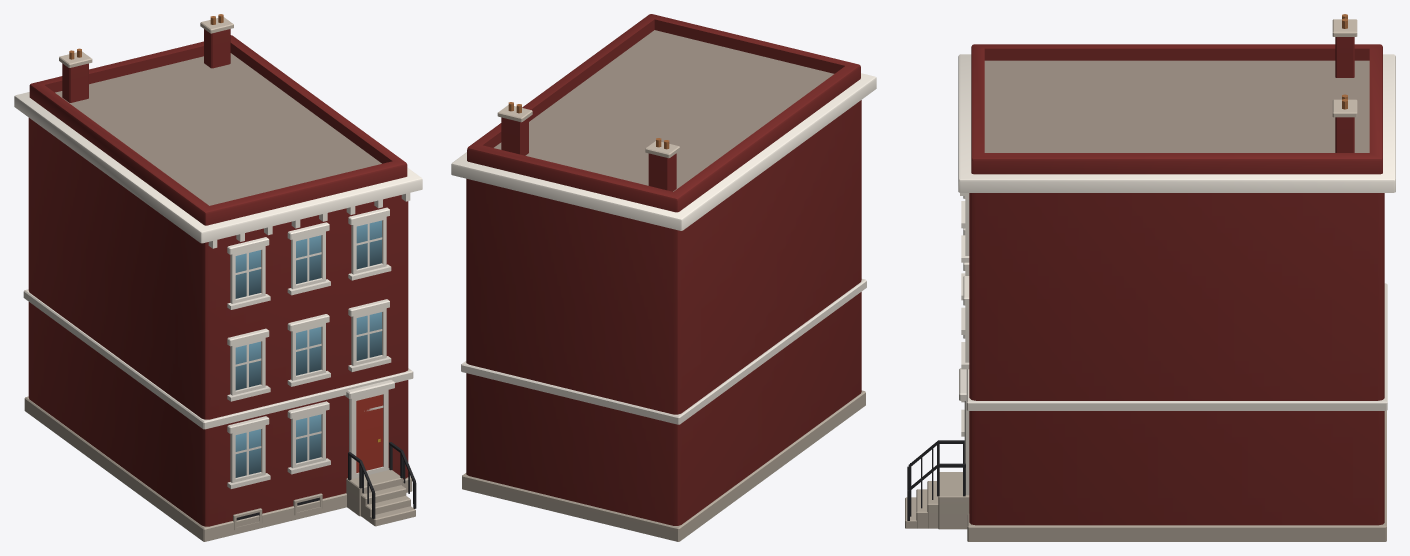
Rendered from beacon_n5.glb.
3 renders of one model, left to right at view 1: azimuth 30°, elevation 25°; view 2: azimuth 150°, elevation 25°; view 3: azimuth 270°, elevation 25°, orthographic. The views are drawn at different scales.
Parts seen in each view (by area): view 1: beacon_n5; view 2: beacon_n5; view 3: beacon_n5.
Part boxes in pixels (x1=…): beacon_n5: x1=14, y1=14, x2=422, y2=541; beacon_n5: x1=451, y1=14, x2=876, y2=541; beacon_n5: x1=905, y1=14, x2=1395, y2=541.
Bounding box in the file's own units: 8.64 × 13.54 × 14.18.
Materials: 1 (1 with a texture image).
